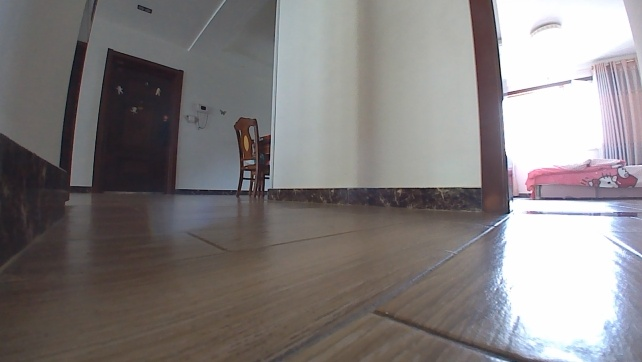bed1: (524, 154, 641, 202)
door_anno: (90, 47, 185, 200)
